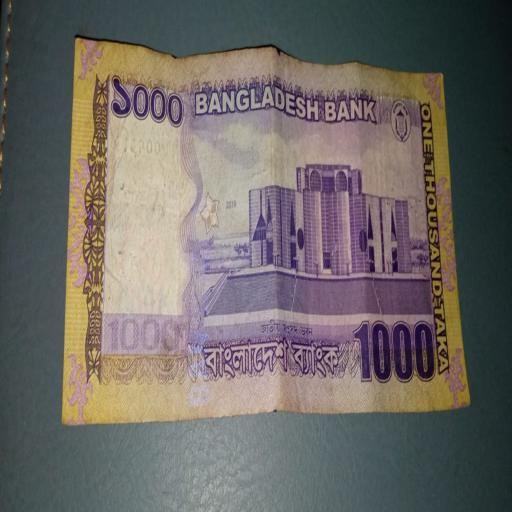1000taka: (62, 37, 470, 423)
